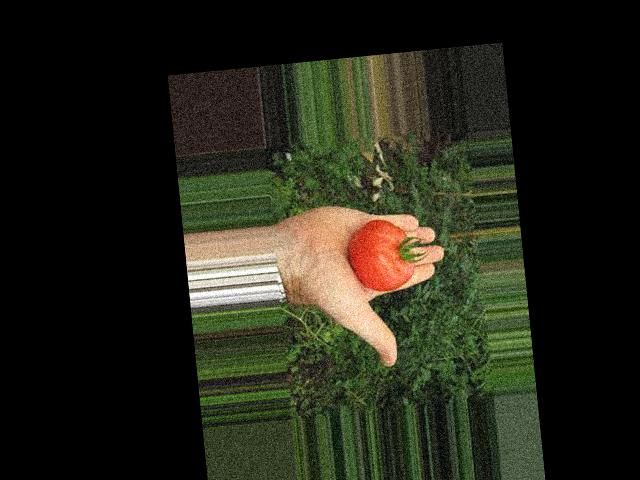tomato: (346, 215, 415, 294)
